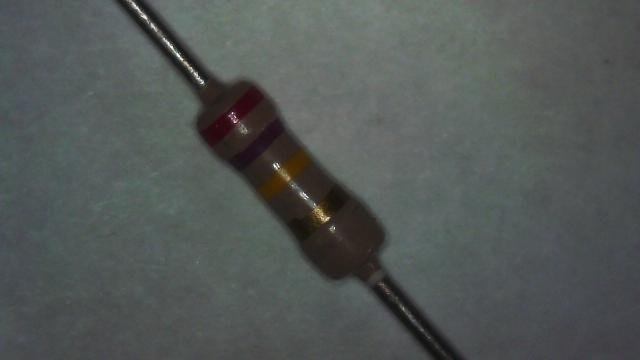gold: (290, 188, 344, 235)
red: (201, 87, 264, 145)
resistor: (152, 51, 425, 316)
violet: (230, 119, 284, 170)
yellow: (257, 148, 312, 200)
